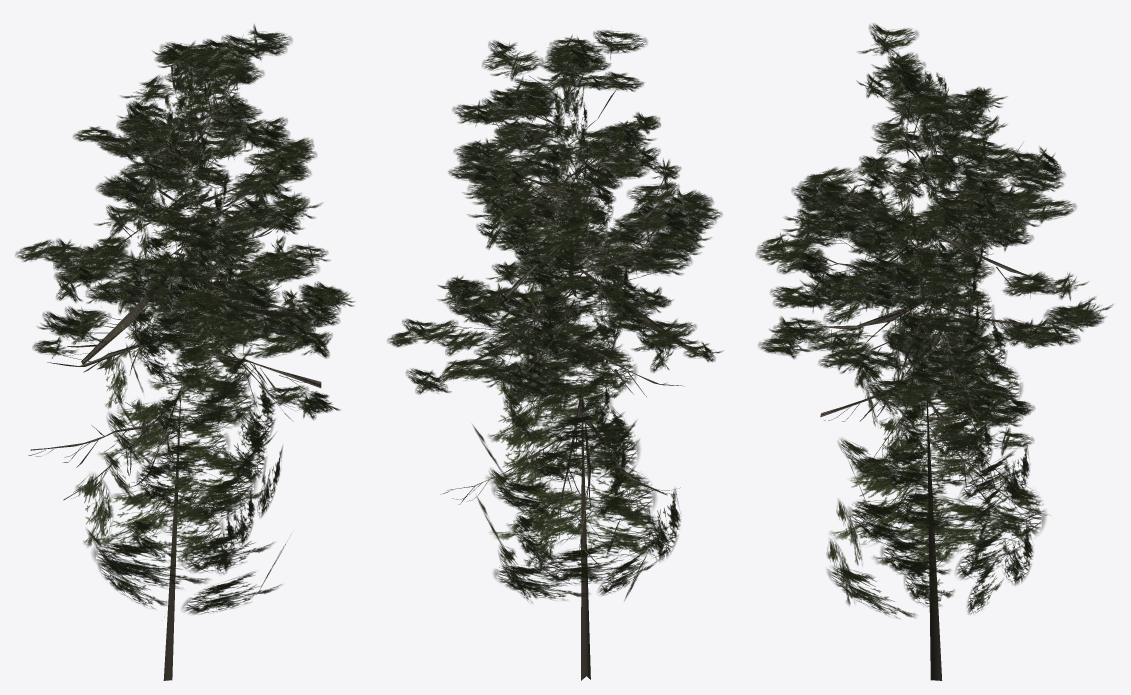
The model's file is tree-v4-high.glb.
3 views of the same model, side by side, from view 1: azimuth 30°, elevation 25°; view 2: azimuth 150°, elevation 25°; view 3: azimuth 270°, elevation 25° (orthographic). The views are drawn at different scales.
Visible parts, largest first — view 1: tree-v4-high; view 2: tree-v4-high; view 3: tree-v4-high.
Boxes of the visible parts, bbox=[...] form: tree-v4-high: bbox=[15, 24, 355, 680]; tree-v4-high: bbox=[387, 30, 723, 680]; tree-v4-high: bbox=[756, 23, 1113, 680].
Bounding box in the file's own units: 6.08 × 12.46 × 6.28.
4 materials, 4 textured.
